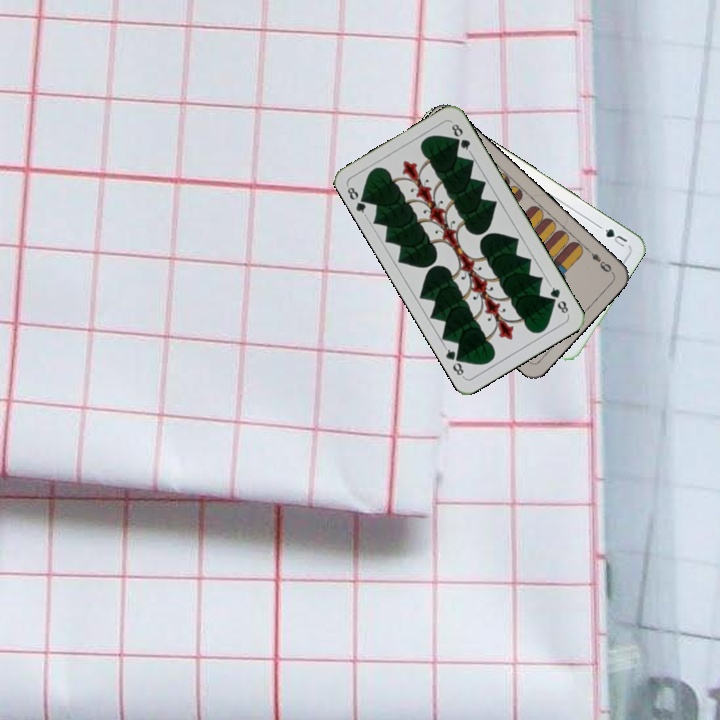E9: (582, 244, 614, 275)
G8: (343, 182, 372, 219), (545, 281, 571, 317)
GU: (601, 224, 630, 250)
